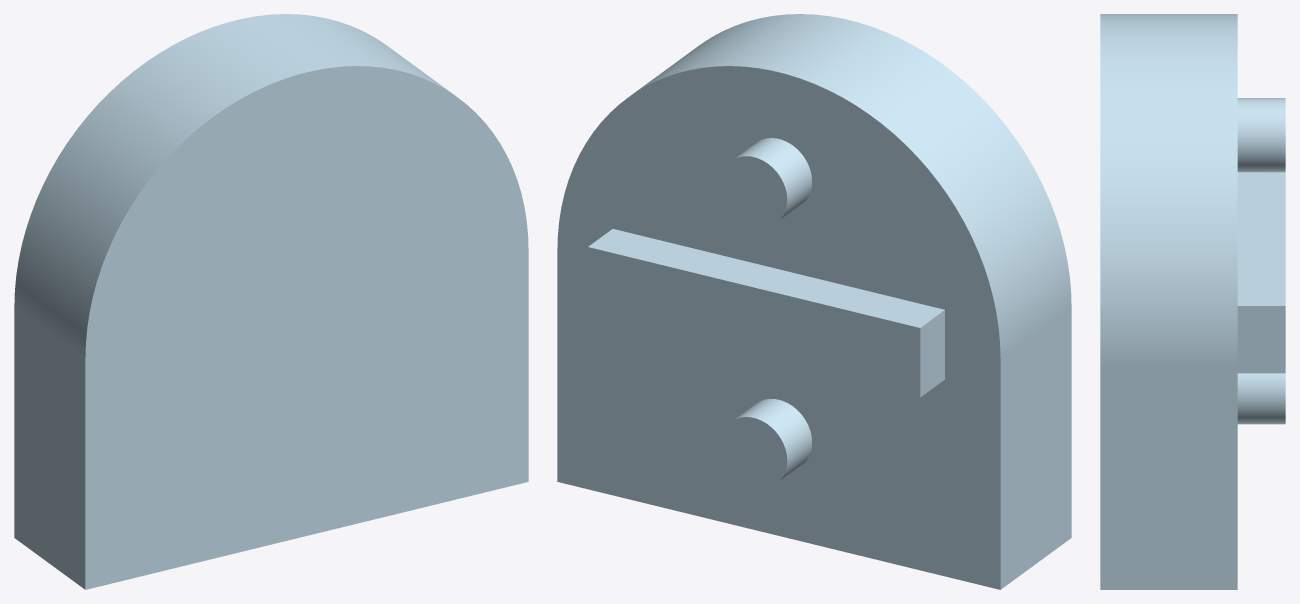
File: divider.fbx
3 views of the same model, side by side, from view 1: azimuth 30°, elevation 25°; view 2: azimuth 150°, elevation 25°; view 3: azimuth 270°, elevation 25° (orthographic). The views are drawn at different scales.
Visible parts, largest first — view 1: Part 1; view 2: Part 1; view 3: Part 1.
Part boxes in pixels (bbox=[...]): Part 1: bbox=[14, 14, 528, 589]; Part 1: bbox=[557, 14, 1071, 589]; Part 1: bbox=[1100, 14, 1285, 589].
Bounding box in the file's own units: 90 × 89.98 × 33.75.
